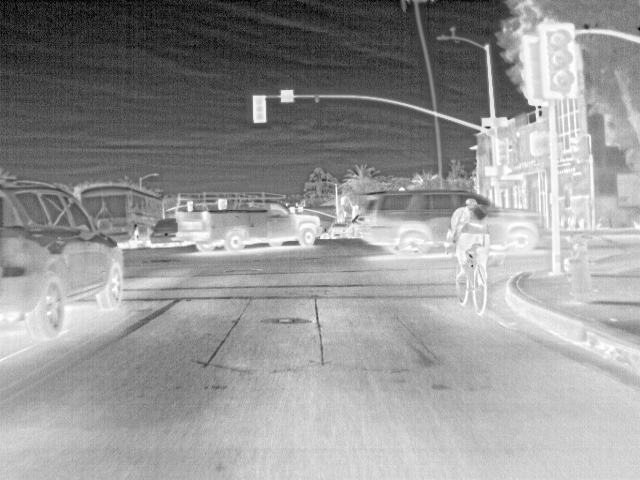car: (0, 179, 124, 339), (178, 192, 320, 257), (360, 191, 452, 258), (489, 199, 547, 251), (150, 218, 178, 246), (327, 220, 347, 241), (348, 213, 360, 237)
person: (448, 196, 489, 279)
